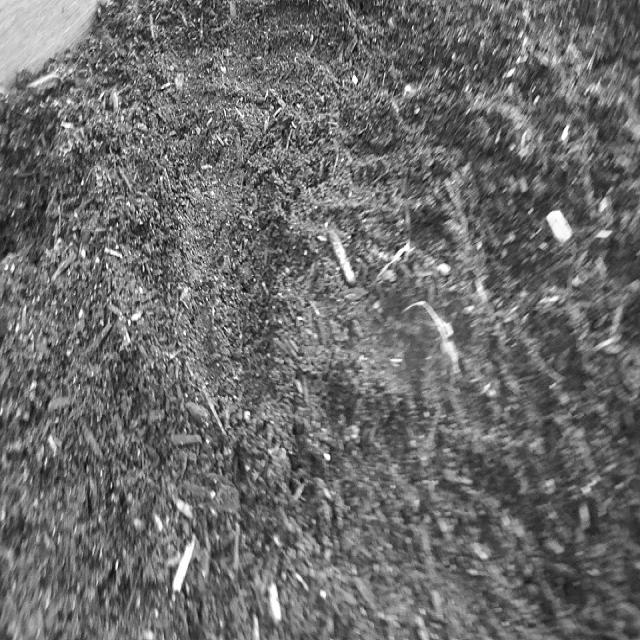Unhealthy: (400, 292, 462, 388)
